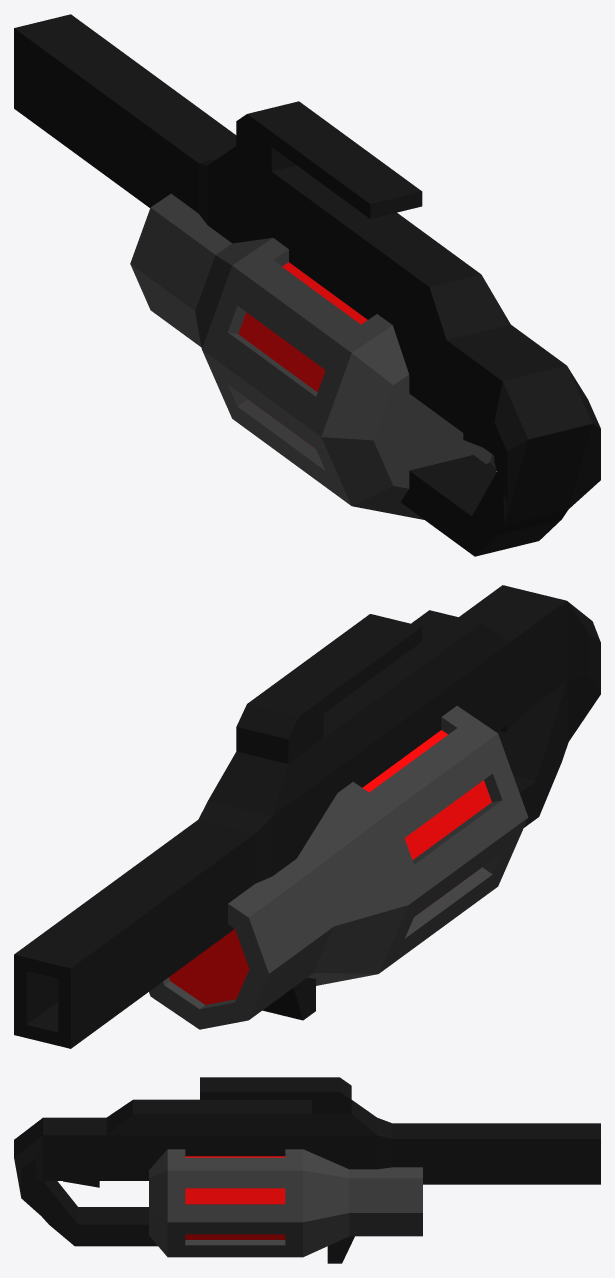
The model's file is RangedWeapon.fbx.
3 views of the same model, one above another, from view 1: azimuth 30°, elevation 25°; view 2: azimuth 150°, elevation 25°; view 3: azimuth 270°, elevation 25° (orthographic). The views are drawn at different scales.
Visible parts, largest first — view 1: Base, Barrel; view 2: Base, Barrel; view 3: Base, Barrel.
Boxes of the visible parts, x1,y1,x2,y2 form: Base: (14, 14, 600, 556); Barrel: (130, 193, 496, 519); Base: (14, 585, 600, 1048); Barrel: (149, 706, 528, 1029); Base: (14, 1077, 600, 1263); Barrel: (149, 1149, 422, 1257).
Size of the model in its own units: 141 by 196 by 609.
